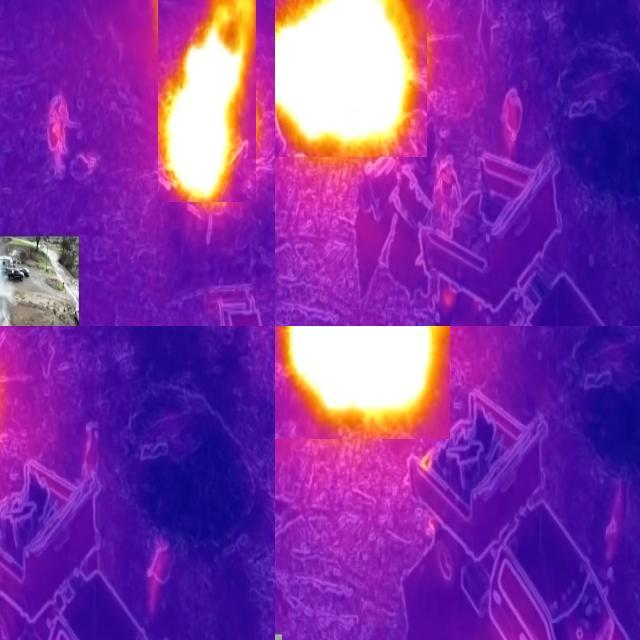fire: (276, 1, 428, 158), (159, 1, 257, 203), (276, 327, 451, 440)
